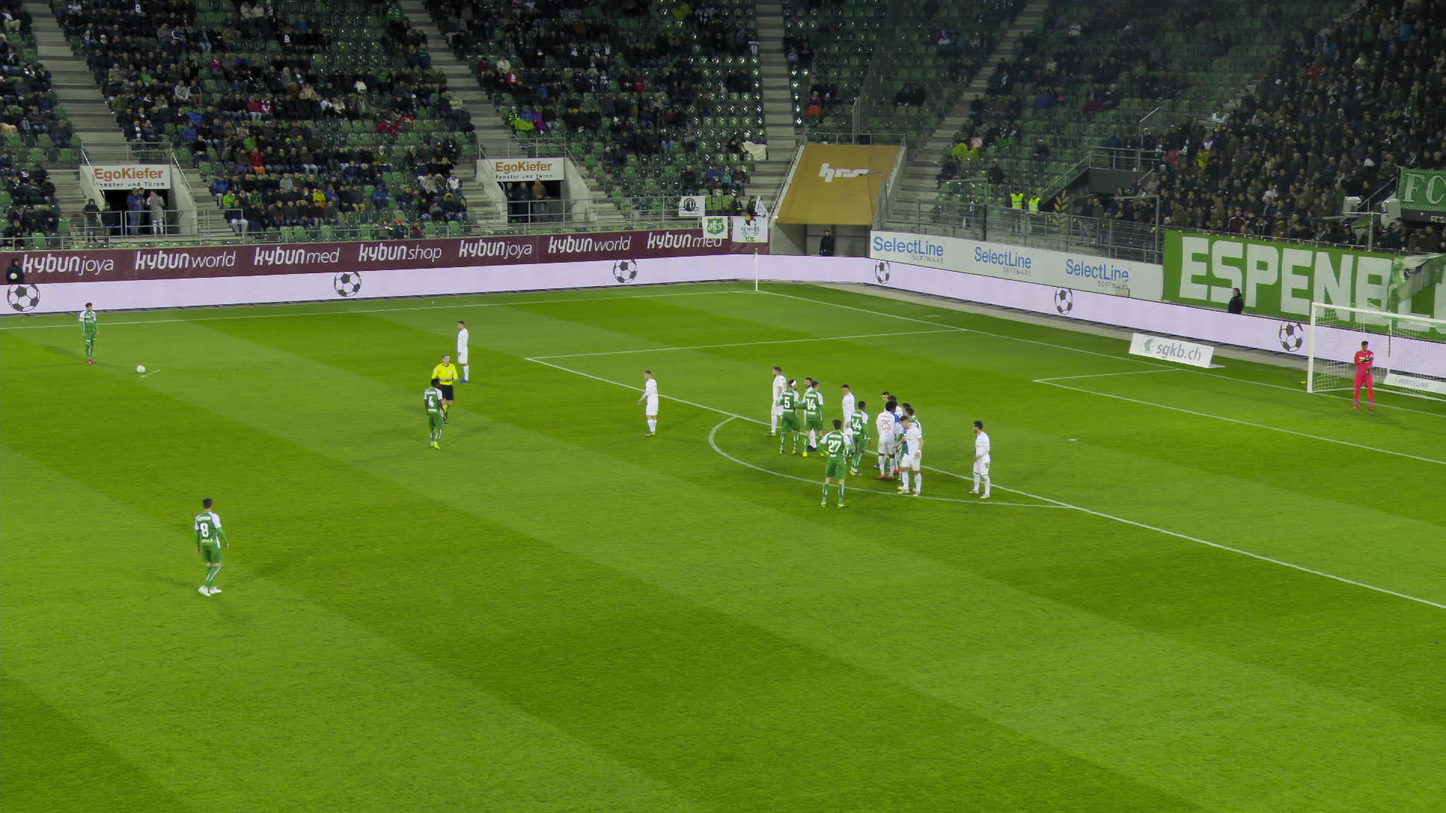ball: (136, 365, 145, 373)
player: (194, 496, 229, 594), (817, 419, 850, 507), (901, 412, 926, 495), (777, 378, 804, 454), (874, 388, 898, 463), (901, 408, 923, 486), (875, 398, 897, 475), (799, 376, 821, 452), (969, 421, 990, 497), (1351, 342, 1374, 411), (801, 381, 822, 456), (423, 377, 445, 448), (900, 403, 917, 490), (636, 370, 658, 436), (850, 400, 869, 475), (767, 367, 786, 437), (890, 396, 906, 475), (840, 384, 856, 461), (79, 303, 98, 364), (455, 321, 470, 382)
referee: (433, 354, 459, 421)
